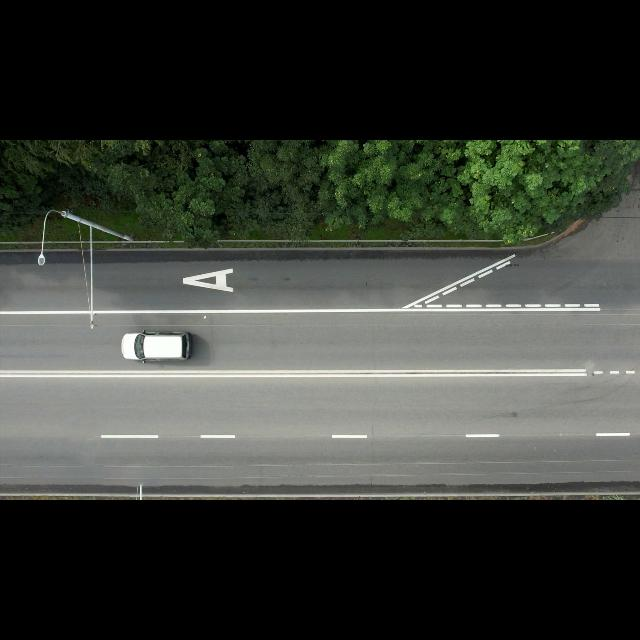road: (0, 235, 640, 487), (96, 253, 507, 309), (0, 328, 152, 371), (0, 264, 87, 310)
